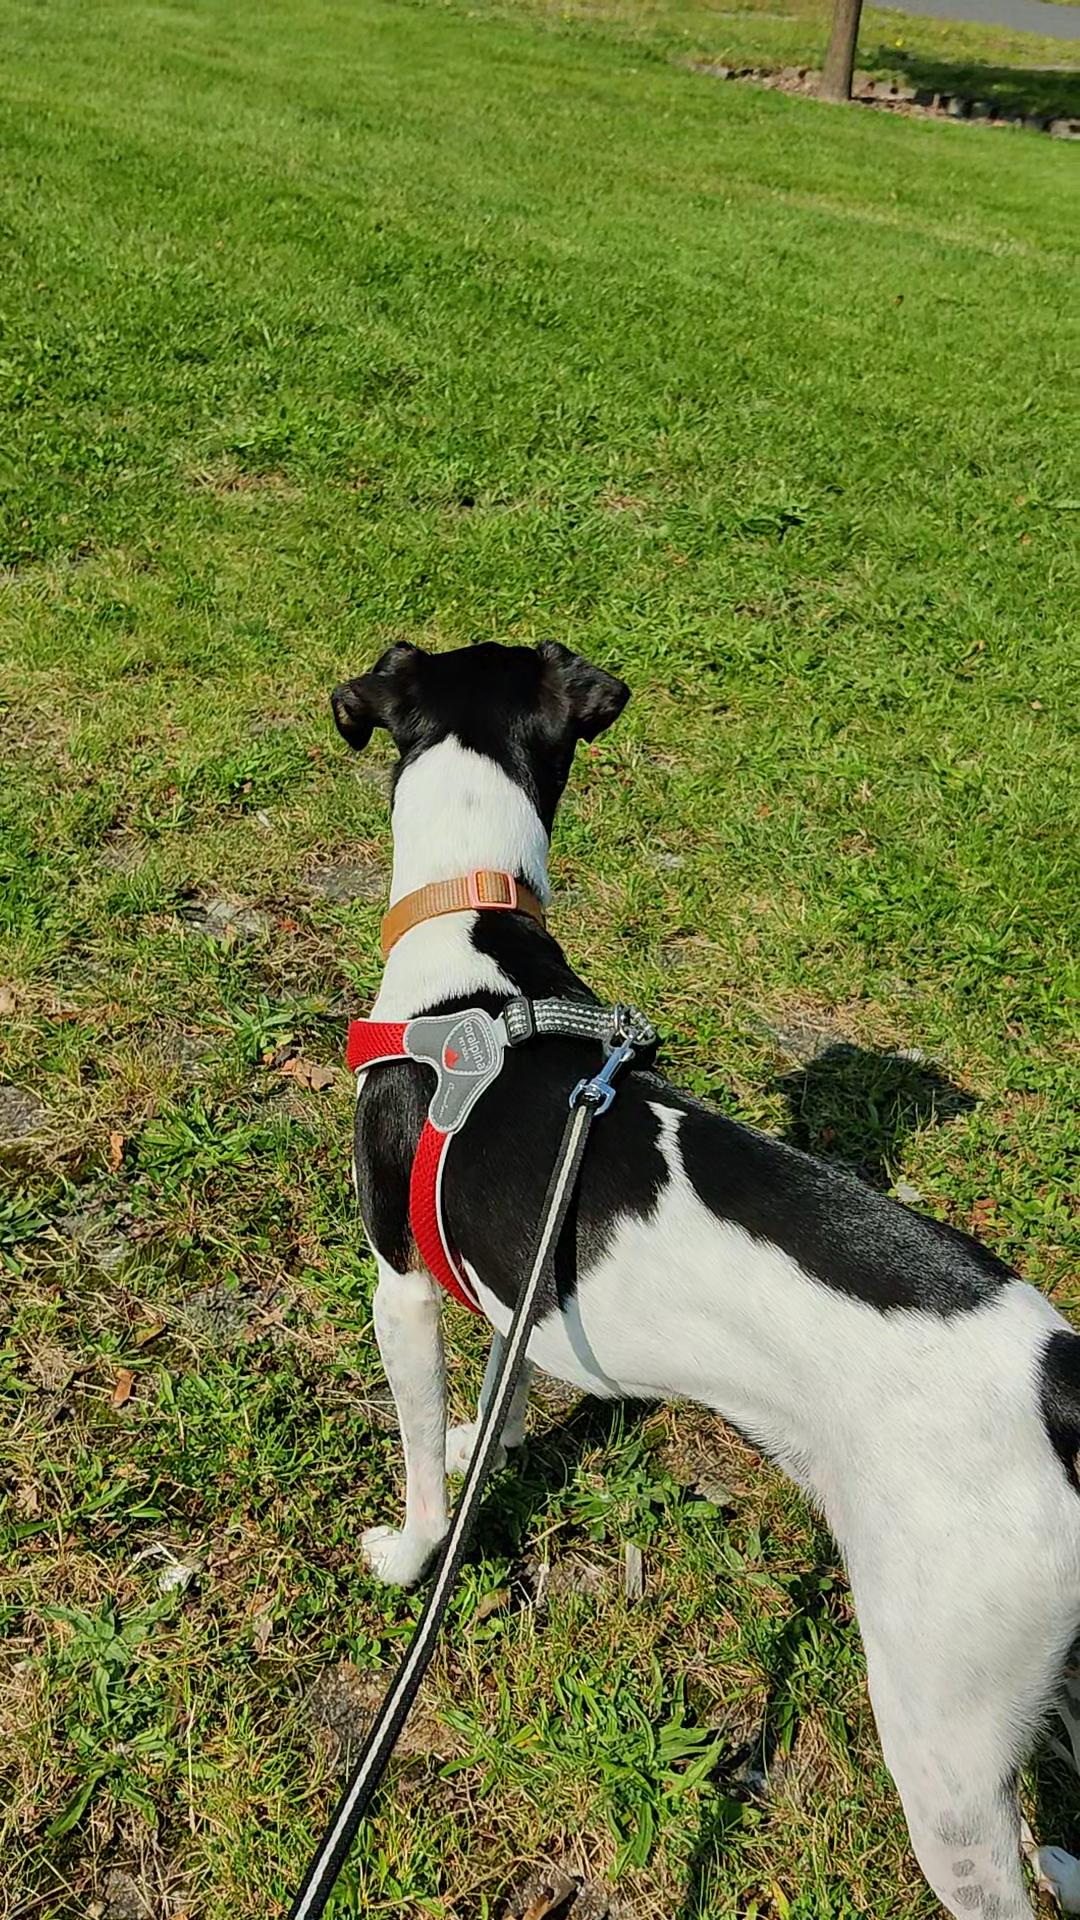Dog: (284, 589, 1079, 1919)
